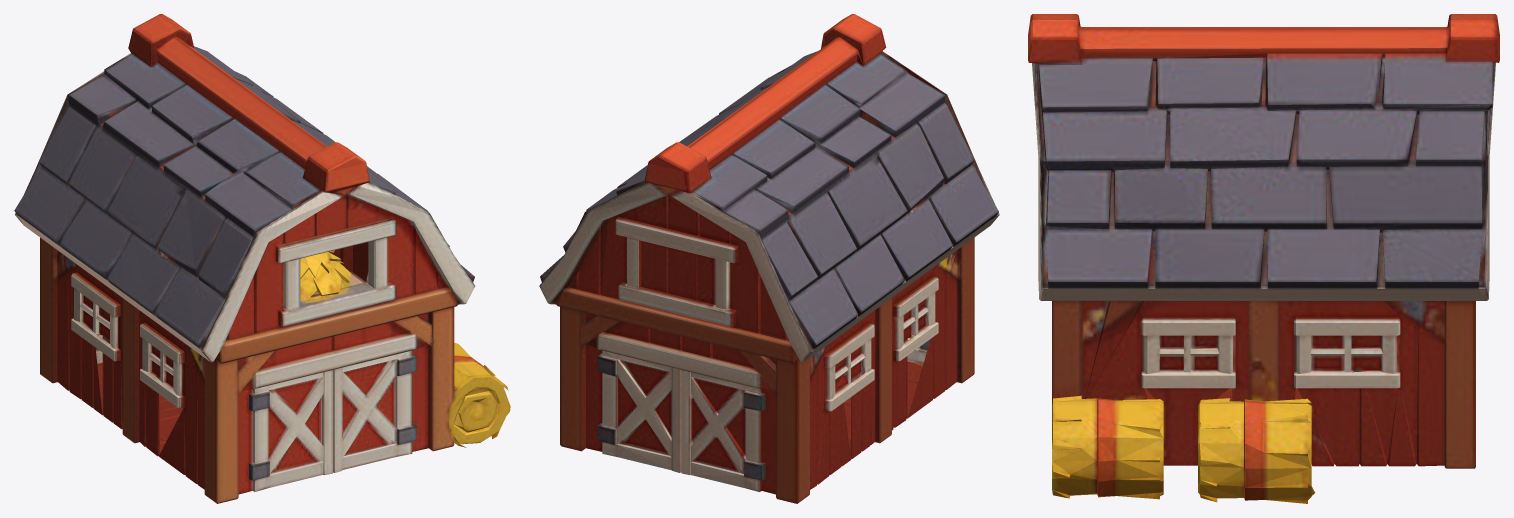
The model's file is barn-CS_F-QlX.glb.
The picture shows the model from 3 angles, left to right: view 1: azimuth 30°, elevation 25°; view 2: azimuth 150°, elevation 25°; view 3: azimuth 270°, elevation 25°; orthographic projection. The views are drawn at different scales.
Visible parts, largest first — view 1: tripo_node_e40538df-7366-467c-841b-cc8bf5167251; view 2: tripo_node_e40538df-7366-467c-841b-cc8bf5167251; view 3: tripo_node_e40538df-7366-467c-841b-cc8bf5167251.
Part boxes in pixels (x1,y1,x2,y2): tripo_node_e40538df-7366-467c-841b-cc8bf5167251: [14, 14, 510, 503]; tripo_node_e40538df-7366-467c-841b-cc8bf5167251: [539, 14, 999, 503]; tripo_node_e40538df-7366-467c-841b-cc8bf5167251: [1028, 14, 1499, 503].
Size of the model in its own units: 0.9084 by 0.9084 by 0.9773.
Materials: 1 (1 with a texture image).
